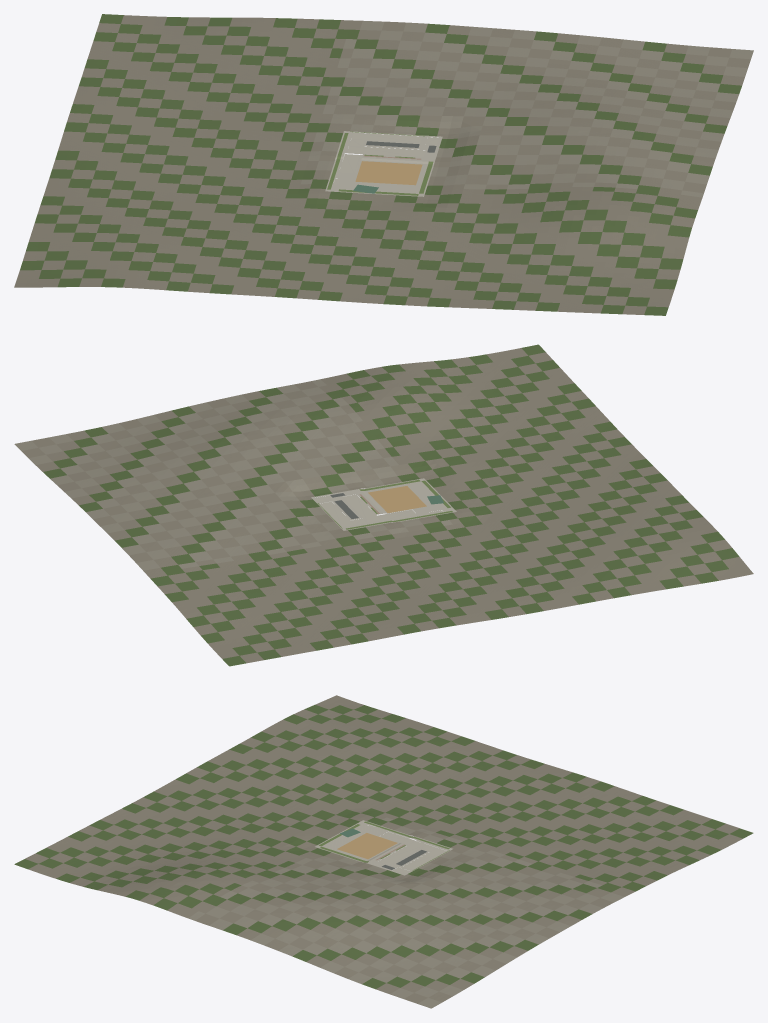
3 views of the same model, one above another, from view 1: azimuth 30°, elevation 25°; view 2: azimuth 150°, elevation 25°; view 3: azimuth 270°, elevation 25° (orthographic). The views are drawn at different scales.
Parts seen in each view (by area): view 1: ground_context-estimated, surface_school-paved-walk, surface_sports-field, surface_underbuilding-main, surface_underbuilding-rear; view 2: ground_context-estimated, surface_school-paved-walk, surface_sports-field; view 3: ground_context-estimated, surface_school-paved-walk, surface_sports-field.
Boxes of the visible parts, x1,y1,x2,y2 form: ground_context-estimated: (14, 14, 753, 315); surface_school-paved-walk: (325, 131, 442, 196); surface_sports-field: (355, 161, 422, 185); surface_underbuilding-main: (347, 146, 425, 157); surface_underbuilding-rear: (351, 132, 422, 142); ground_context-estimated: (14, 344, 753, 666); surface_school-paved-walk: (311, 478, 456, 530); surface_sports-field: (368, 486, 426, 512); ground_context-estimated: (14, 695, 753, 1008); surface_school-paved-walk: (315, 820, 452, 875); surface_sports-field: (337, 833, 397, 859).
Size of the model in its own units: 1010 by 24.75 by 1010.
9 materials, 9 textured.
